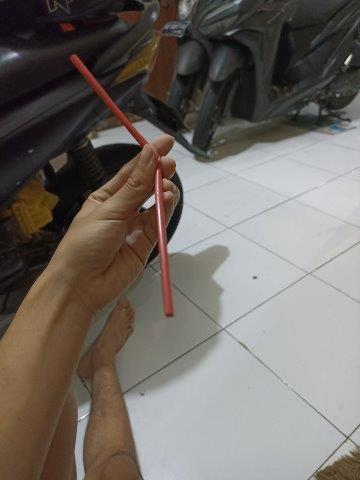sedotan: (72, 55, 171, 314)
